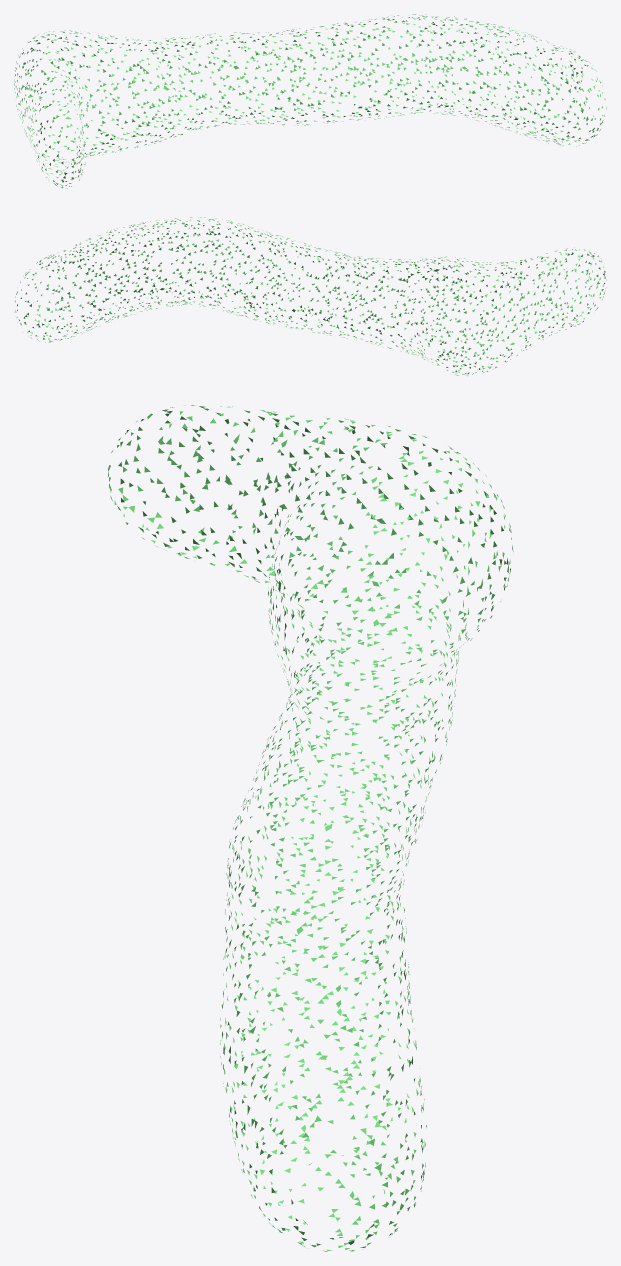
The model's file is morph_018.glb.
3 renders of one model, top to bottom at view 1: azimuth 30°, elevation 25°; view 2: azimuth 150°, elevation 25°; view 3: azimuth 270°, elevation 25°, orthographic. The views are drawn at different scales.
Bounding box in the file's own units: 132 × 44.91 × 43.63.
